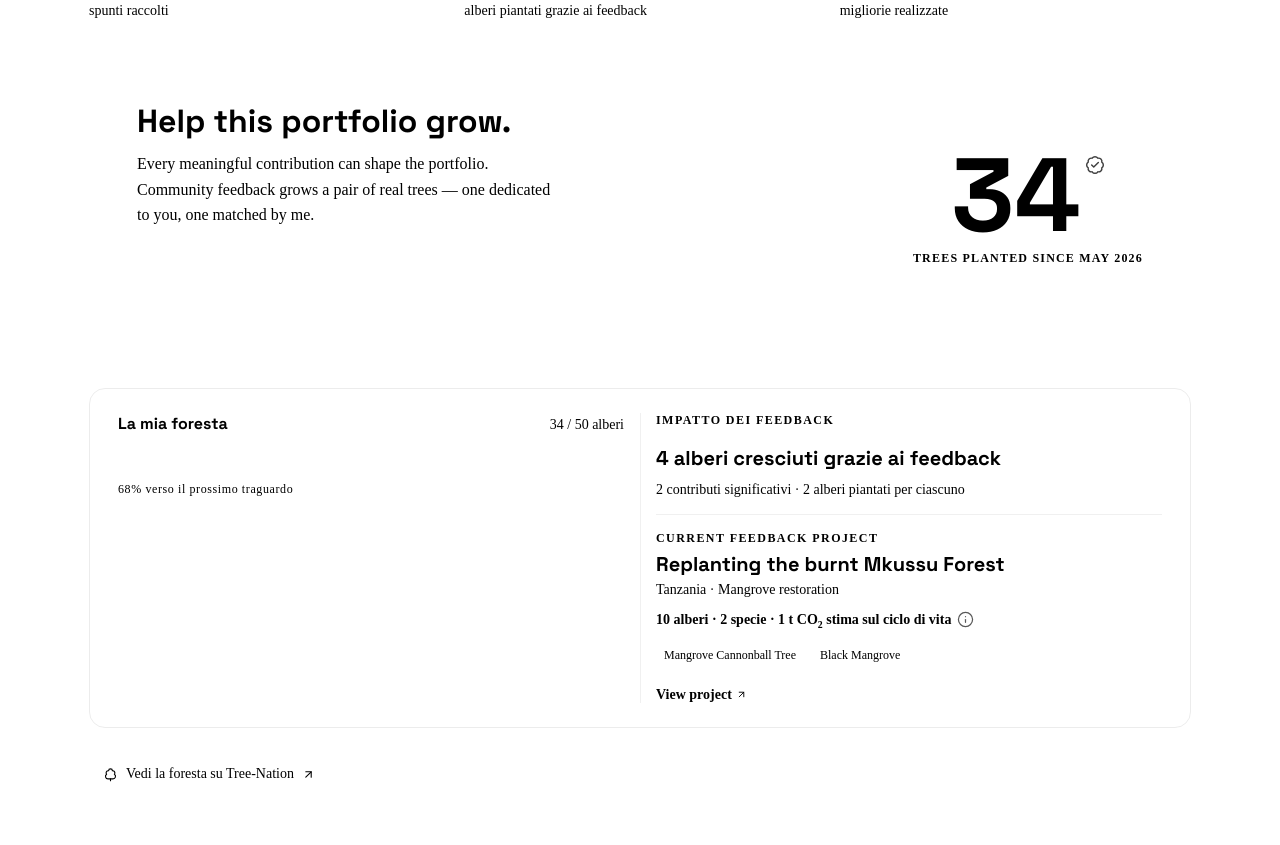
Test: Forest › CO₂ metric with clarification tooltip › renders the exact localized Italian label and copy
(page scrolled)
expect the element with test id "project-stats" reads "10 alberi · 2 specie · 1 t CO2 stima sul ciclo di vita": met, box left=656, top=599, right=987, bottom=643
Click the button named "Informazioni sulla stima della CO₂" at [965, 621], box left=943, top=599, right=987, bottom=643
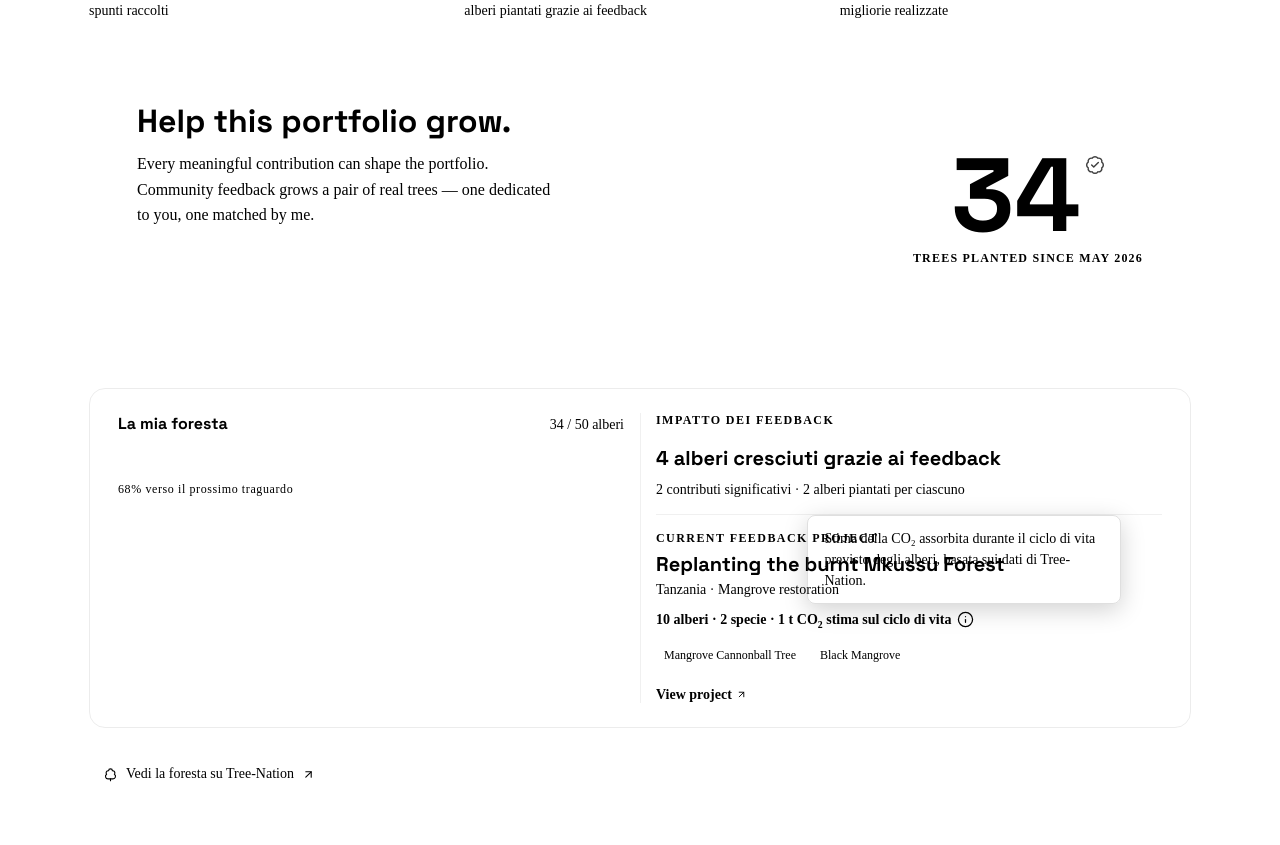
expect the tooltip shows "Stima della CO₂ assorbita durante il ciclo di vita previsto degli alberi, basata sui dati di Tree-Nation.": met, box left=824, top=531, right=1095, bottom=588
